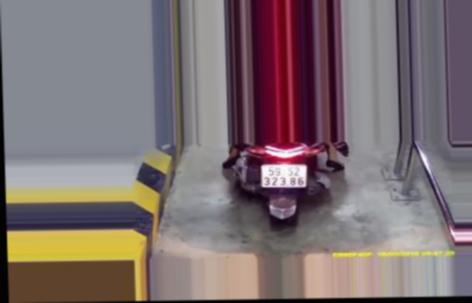License_Plate: (257, 160, 310, 191)
